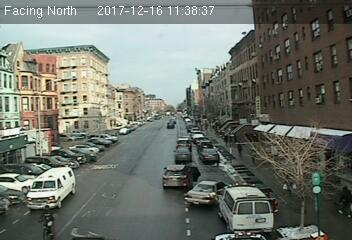bicycle: (38, 202, 58, 240)
car: (185, 179, 227, 207), (163, 164, 192, 187), (199, 148, 218, 163), (174, 147, 191, 163)
pedestrian: (338, 184, 352, 219)
police: (218, 182, 275, 233)
truck: (25, 167, 77, 212)
